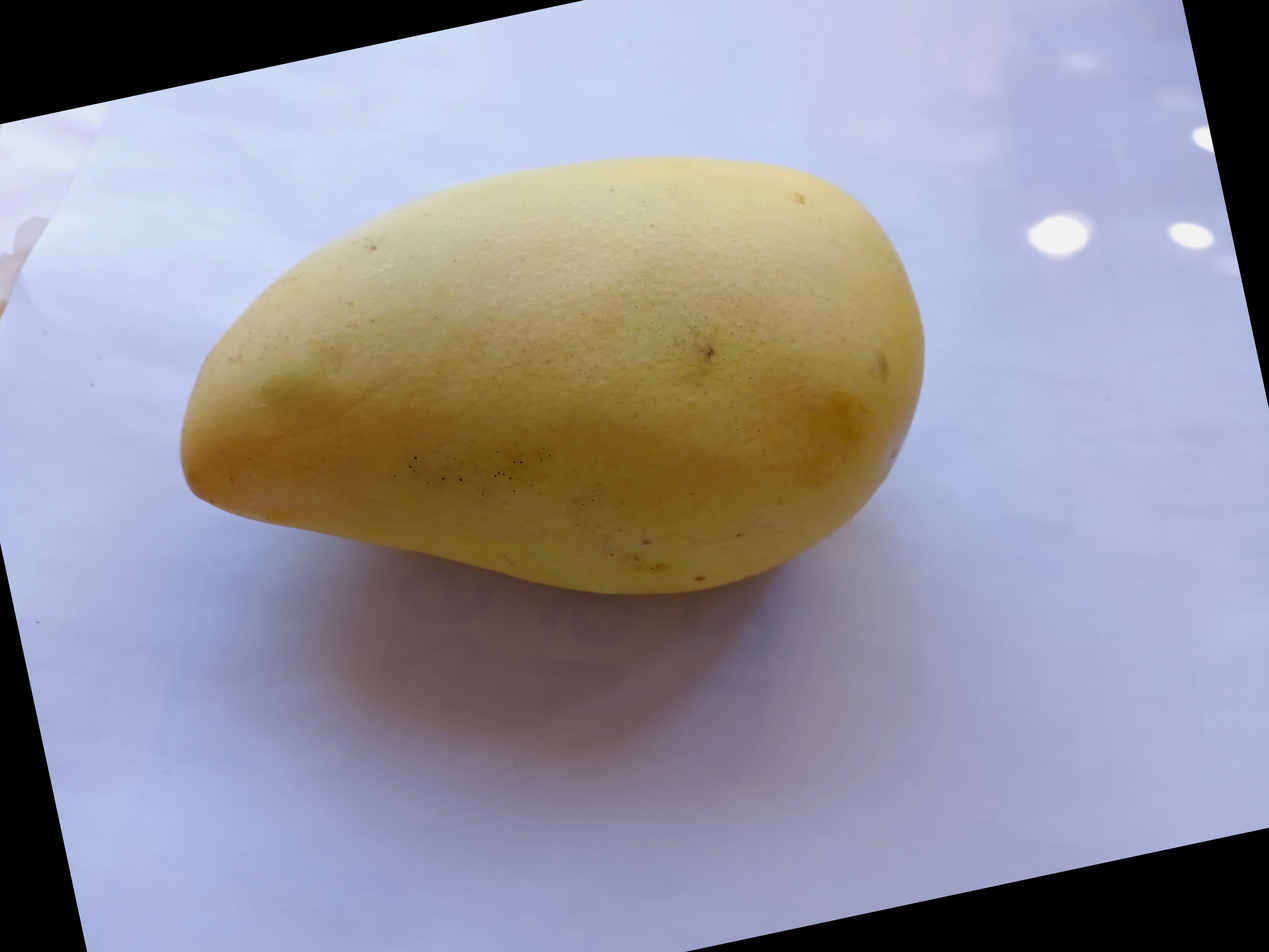Mango Ripe: (17, 247, 914, 920)
